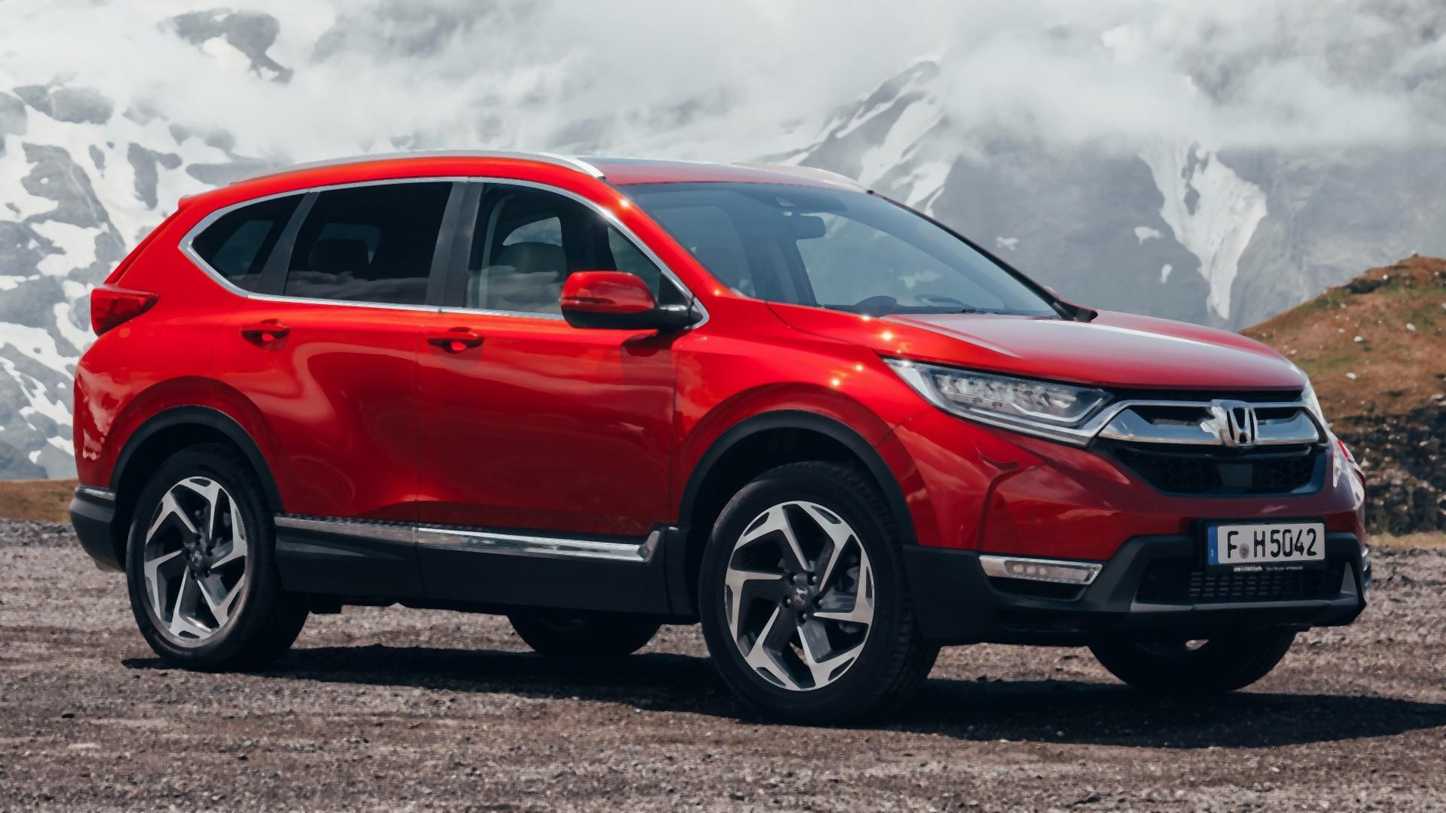Car hood: (763, 296, 1313, 402)
Driver-s door - -F-R-: (416, 151, 676, 568)
Fender - -F-R-: (665, 275, 934, 554)
Fender - -R-R-: (124, 281, 227, 456)
Front bumper: (874, 411, 1379, 655)
Headlight - -L-: (1290, 360, 1347, 441)
Headlight - -R-: (872, 347, 1114, 446)
Passenger-s door - -R-R-: (205, 168, 440, 564)
Rear bumper: (38, 343, 132, 578)
Rear light - -R-: (81, 271, 166, 342)
Side bumper - -R-: (258, 505, 705, 631)
Side mirror - -R-: (544, 260, 669, 337)
